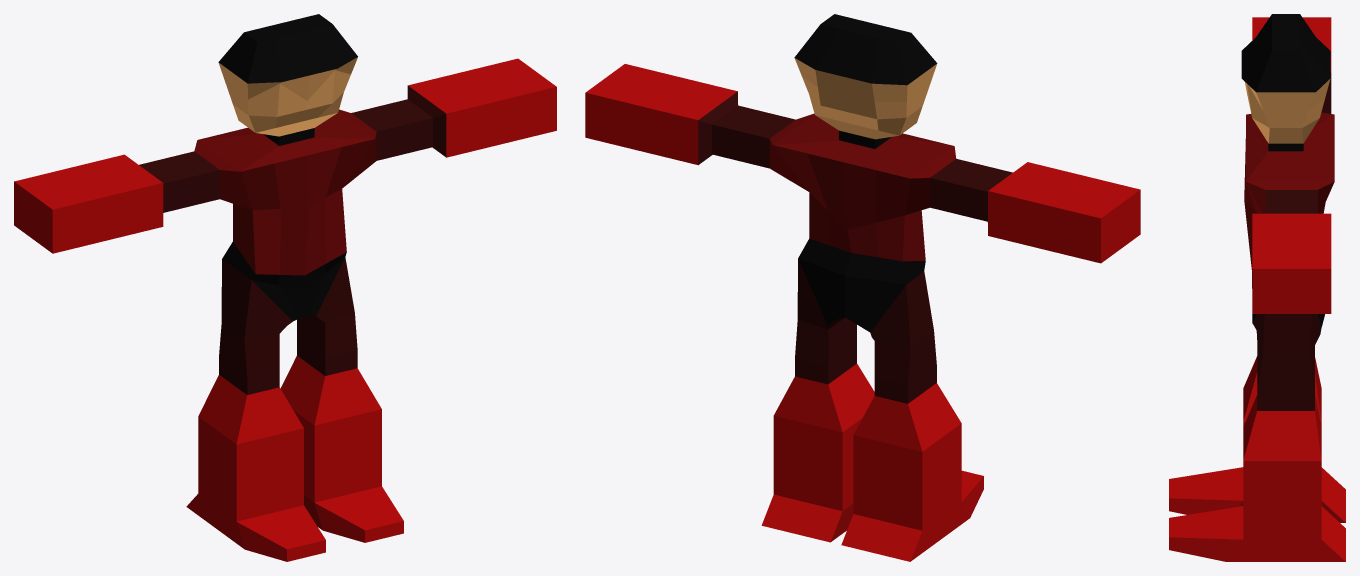
File: character.gltf
3 views of the same model, side by side, from view 1: azimuth 30°, elevation 25°; view 2: azimuth 150°, elevation 25°; view 3: azimuth 270°, elevation 25° (orthographic). The views are drawn at different scales.
Parts seen in each view (by area): view 1: Cube; view 2: Cube; view 3: Cube.
Boxes of the visible parts, box(x1,y1,x2,y2) form: Cube: box(14, 14, 556, 561); Cube: box(585, 14, 1140, 561); Cube: box(1169, 14, 1345, 561).
Size of the model in its own units: 2.14 by 1.96 by 0.6359.
1 material, 1 textured.
